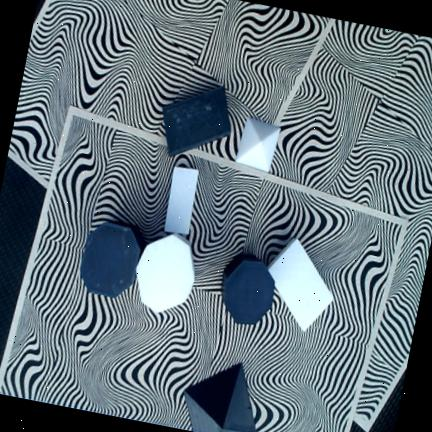Paralelepipedo: (266, 238, 334, 332), (162, 86, 231, 157), (164, 167, 199, 235)
Piramide: (185, 363, 256, 432), (235, 117, 280, 173)
Prisma_hexagonal: (79, 220, 146, 298), (135, 232, 196, 314), (220, 254, 275, 324)
